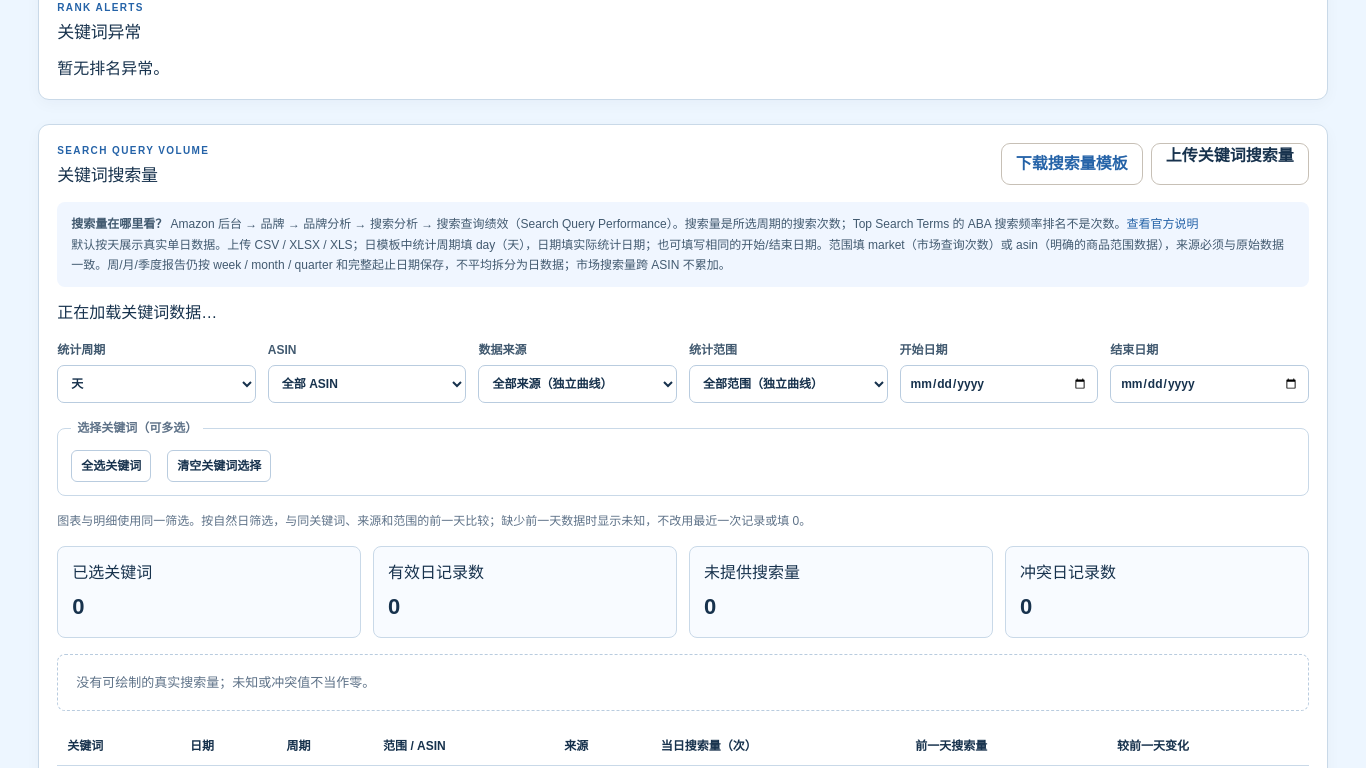
all volume sections follow keyword, ASIN, interval and date filters
(page scrolled)
Select "周（原报告）" in the dropdown named "搜索量统计周期". click: [156, 384]
box: [57, 365, 256, 403]
(page scrolled)
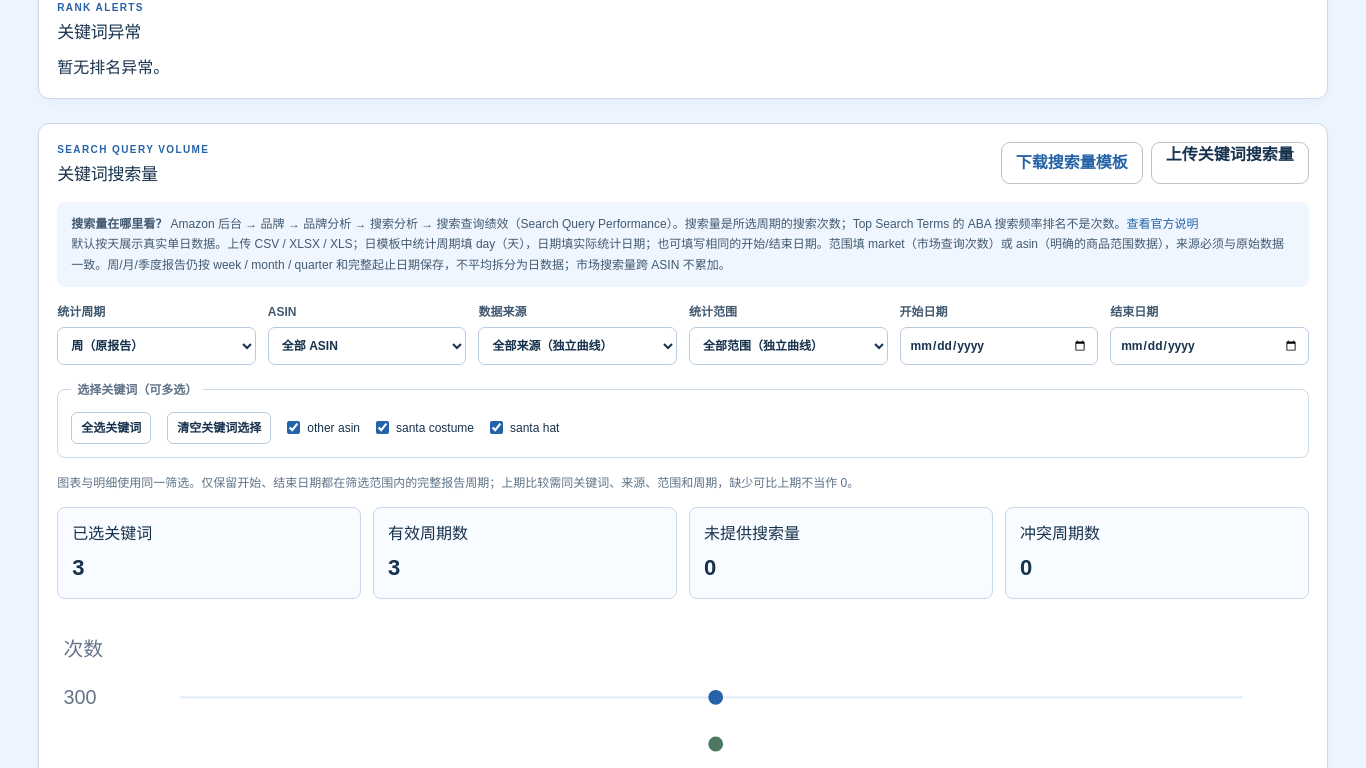
Click the checkbox named "选择关键词 santa hat". click: [496, 428]
box: [490, 421, 503, 434]
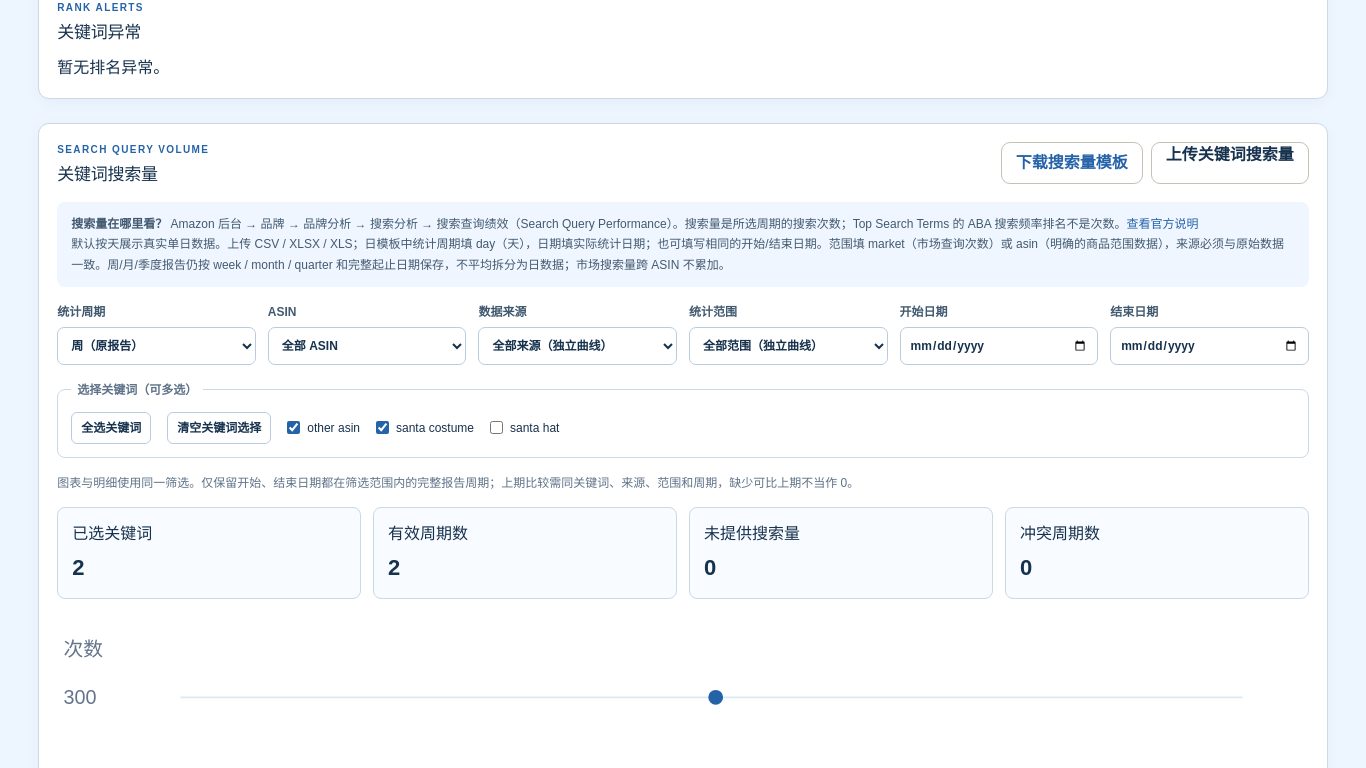
Click the checkbox named "选择关键词 other asin". click: [294, 428]
box: [287, 421, 300, 434]
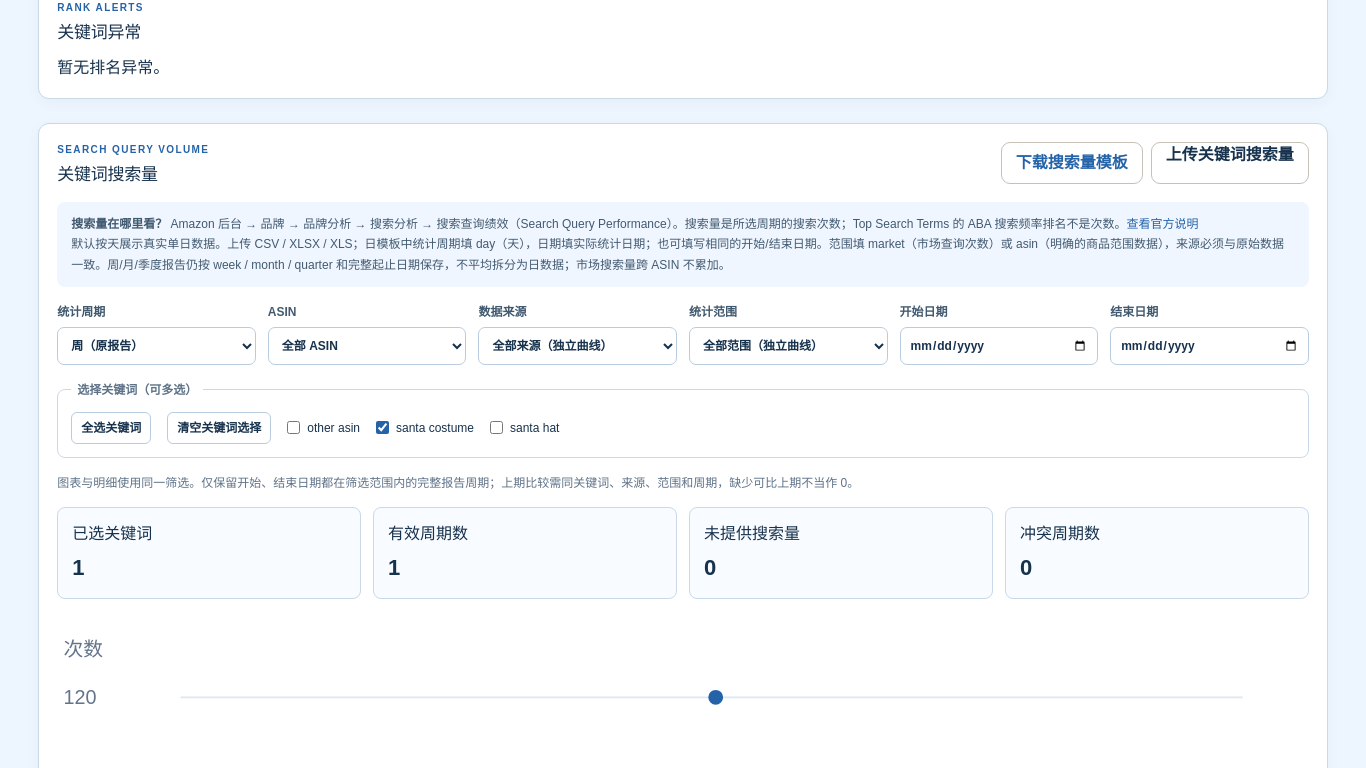
Select "B0CFPYYPRN" in the dropdown named "搜索量 ASIN". click: [367, 346]
box: [268, 327, 466, 365]
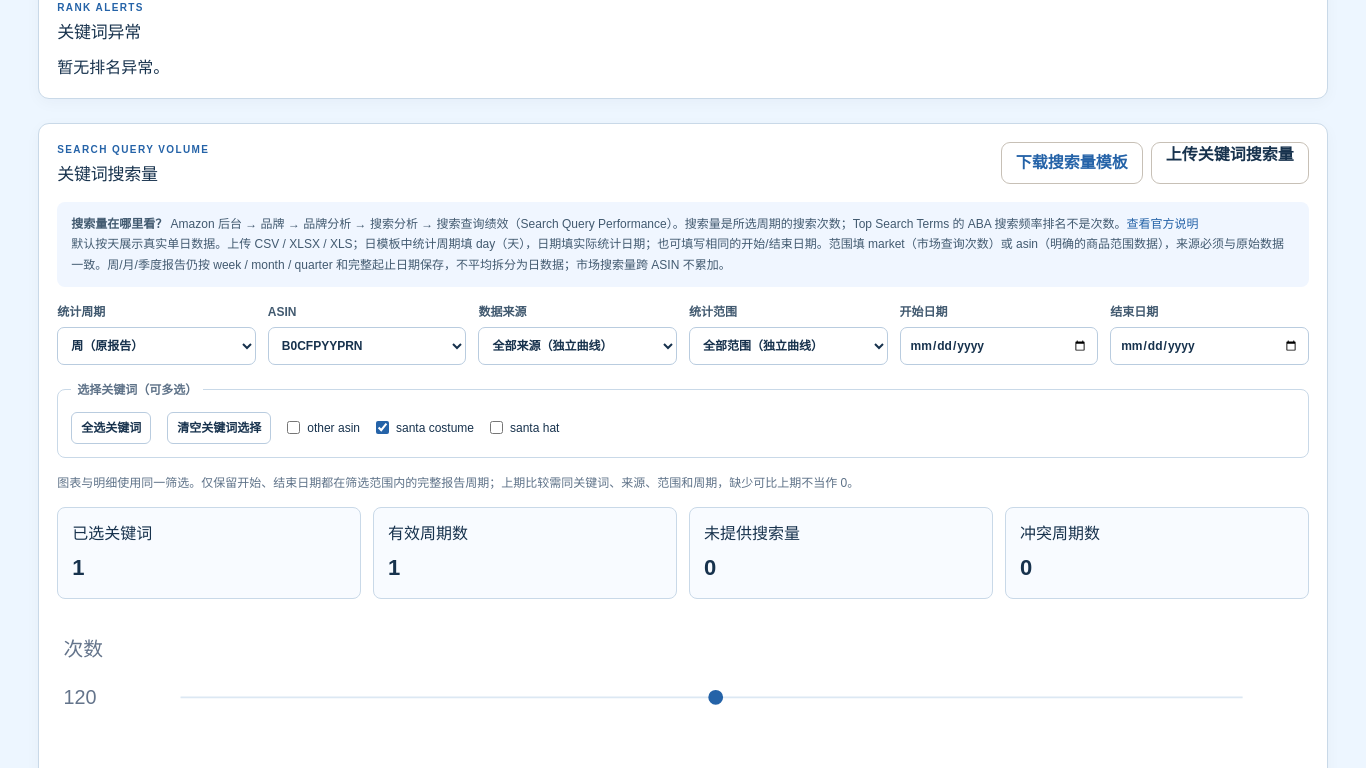
Expected: the picture "搜索量周期明细" does not show "300"
Select "月（原报告）" in the dropdown named "搜索量统计周期". click: [156, 346]
box: [57, 327, 256, 365]
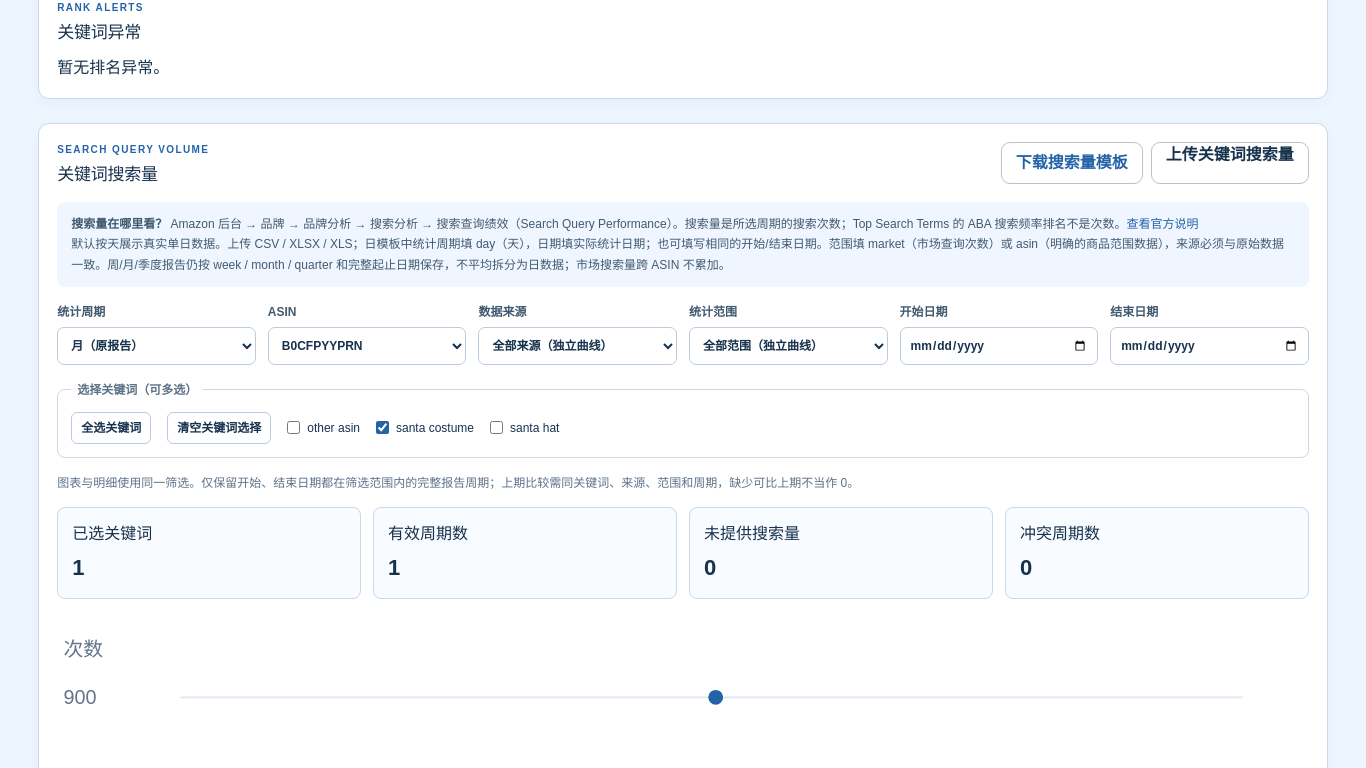
Type "2026-10-15" into the date field named "搜索量开始日期". click: [999, 346]
box: [900, 327, 1098, 365]
(page scrolled)
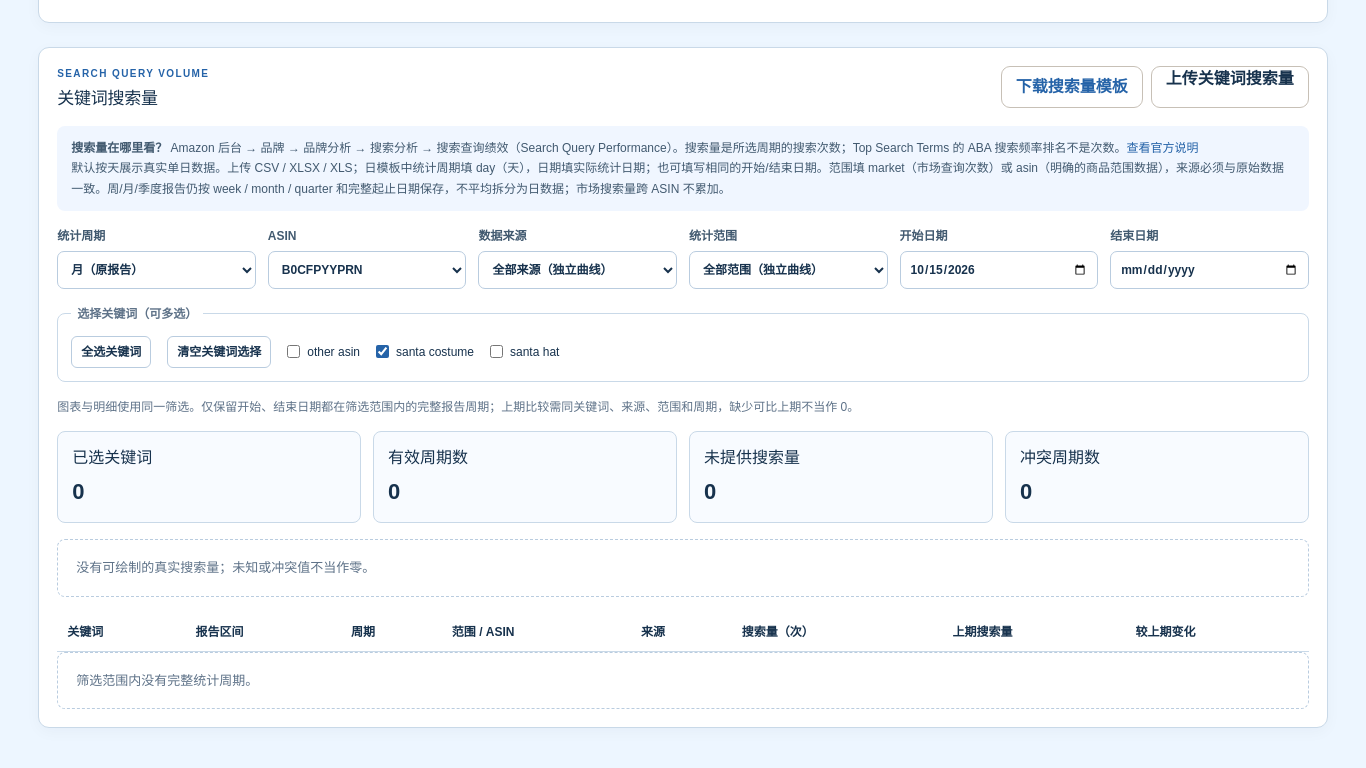
Expected: the text "筛选范围内没有完整统计周期。" is shown, [57, 652, 1309, 709]
